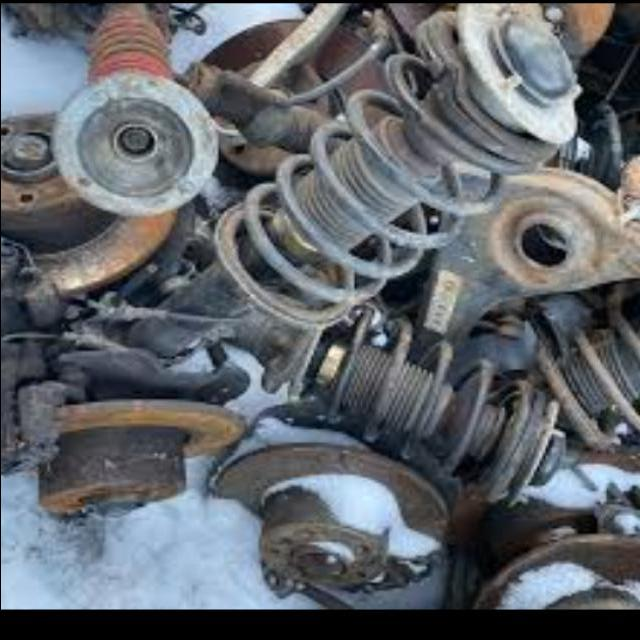shock absorber: (133, 3, 576, 361), (216, 301, 565, 509)
